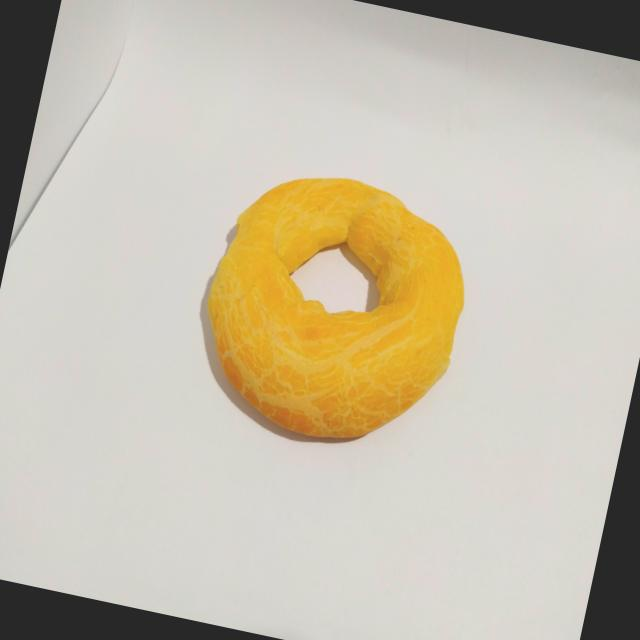Chipa: (159, 142, 493, 482)
